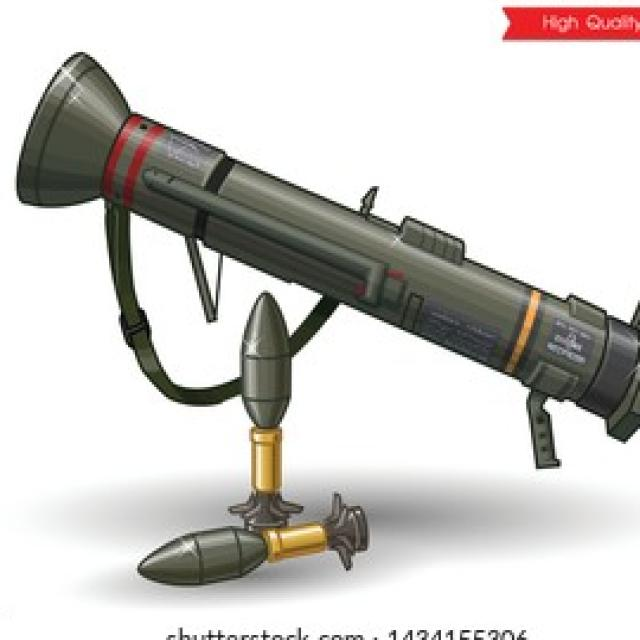Weapon: (19, 55, 640, 464)
